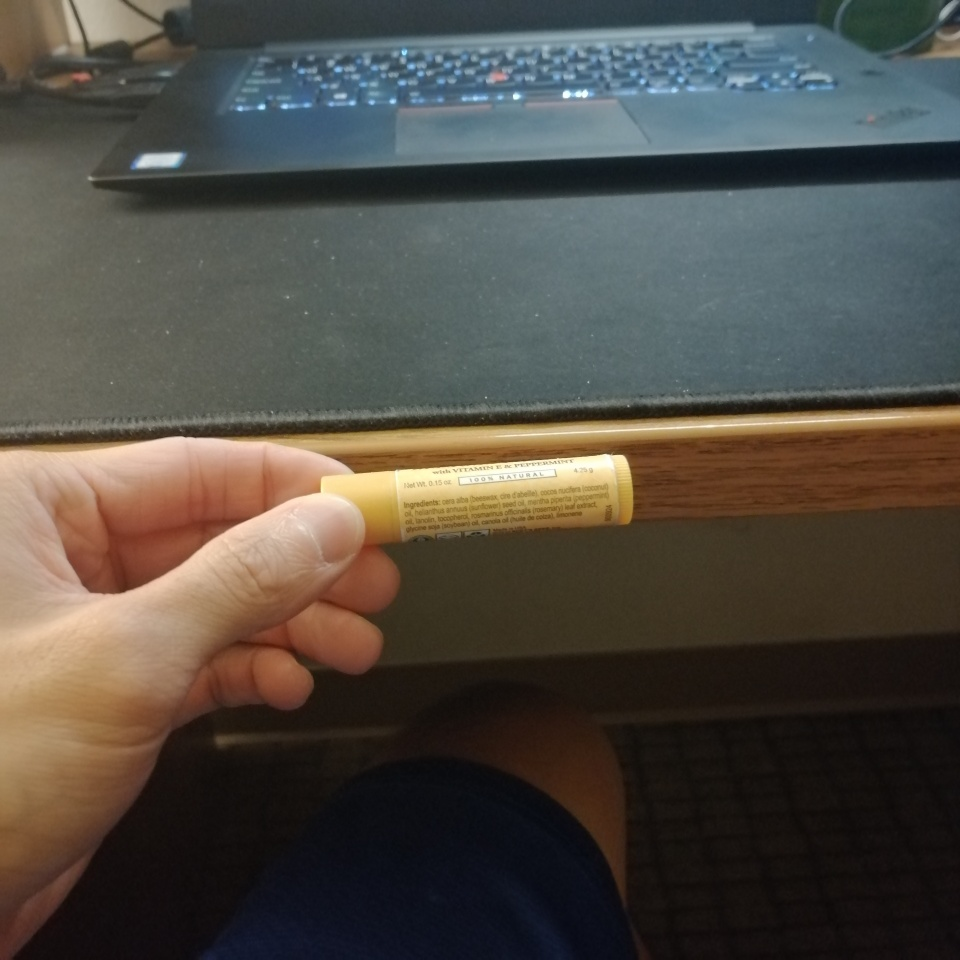chapstick: (317, 451, 637, 546)
